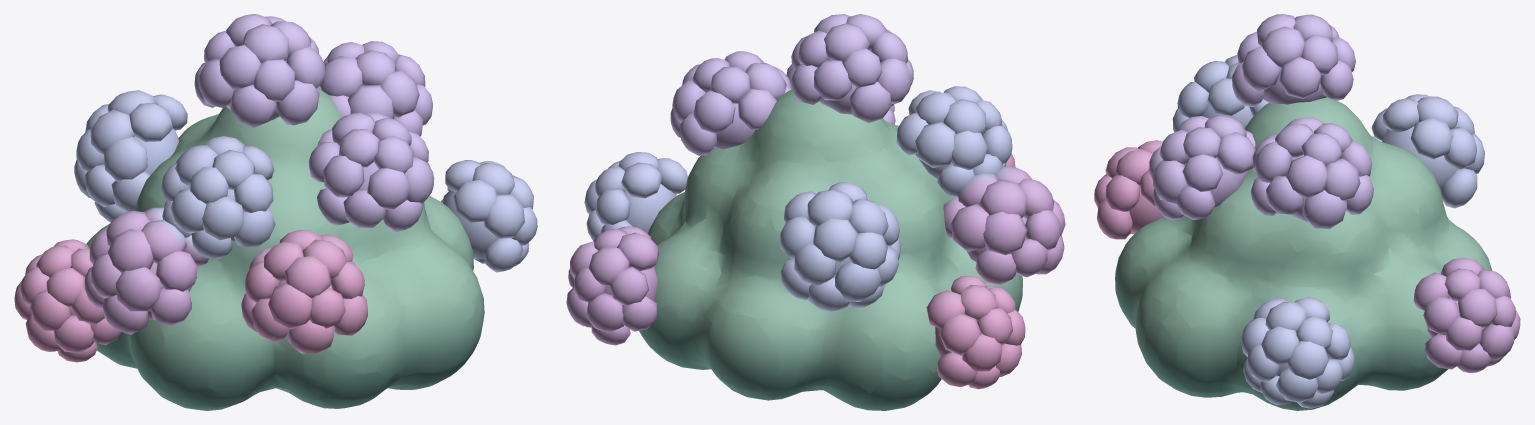
Rendered from hydrangea-bush.glb.
The picture shows the model from 3 angles, left to right: view 1: azimuth 30°, elevation 25°; view 2: azimuth 150°, elevation 25°; view 3: azimuth 270°, elevation 25°; orthographic projection. The views are drawn at different scales.
Visible parts, largest first — view 1: hydrangea-bush; view 2: hydrangea-bush; view 3: hydrangea-bush.
Part boxes in pixels (<box>): hydrangea-bush: <box>14,14,537,410</box>; hydrangea-bush: <box>566,14,1065,410</box>; hydrangea-bush: <box>1094,14,1520,410</box>.
Bounding box in the file's own units: 1.6 × 1.13 × 1.34.
